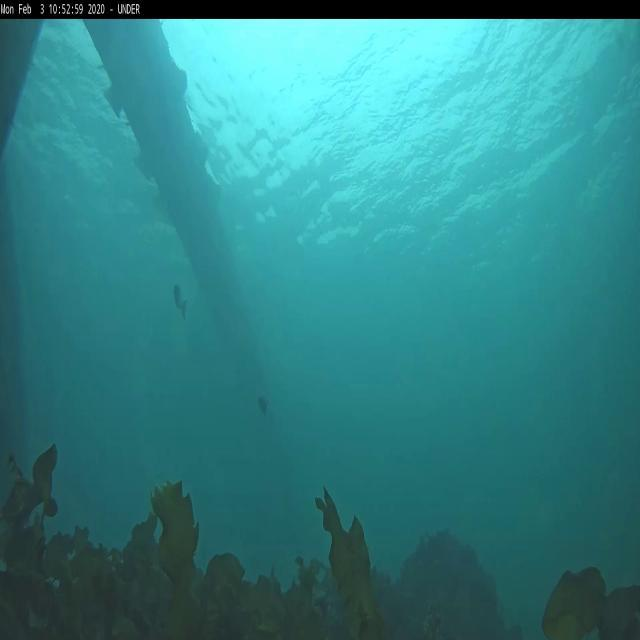fish: (172, 284, 188, 319), (256, 393, 270, 418)
